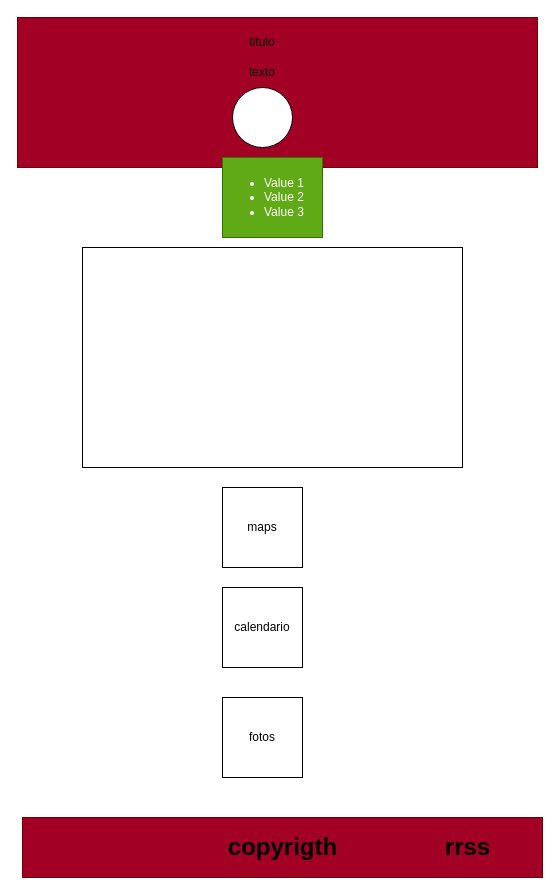
Image size: 560x895. Some labels were removed from this diagram. Each missing label, with the centre of its shape:
"Logo" belongs at point 262,117.
"Noticia navideña" belongs at point 272,357.
